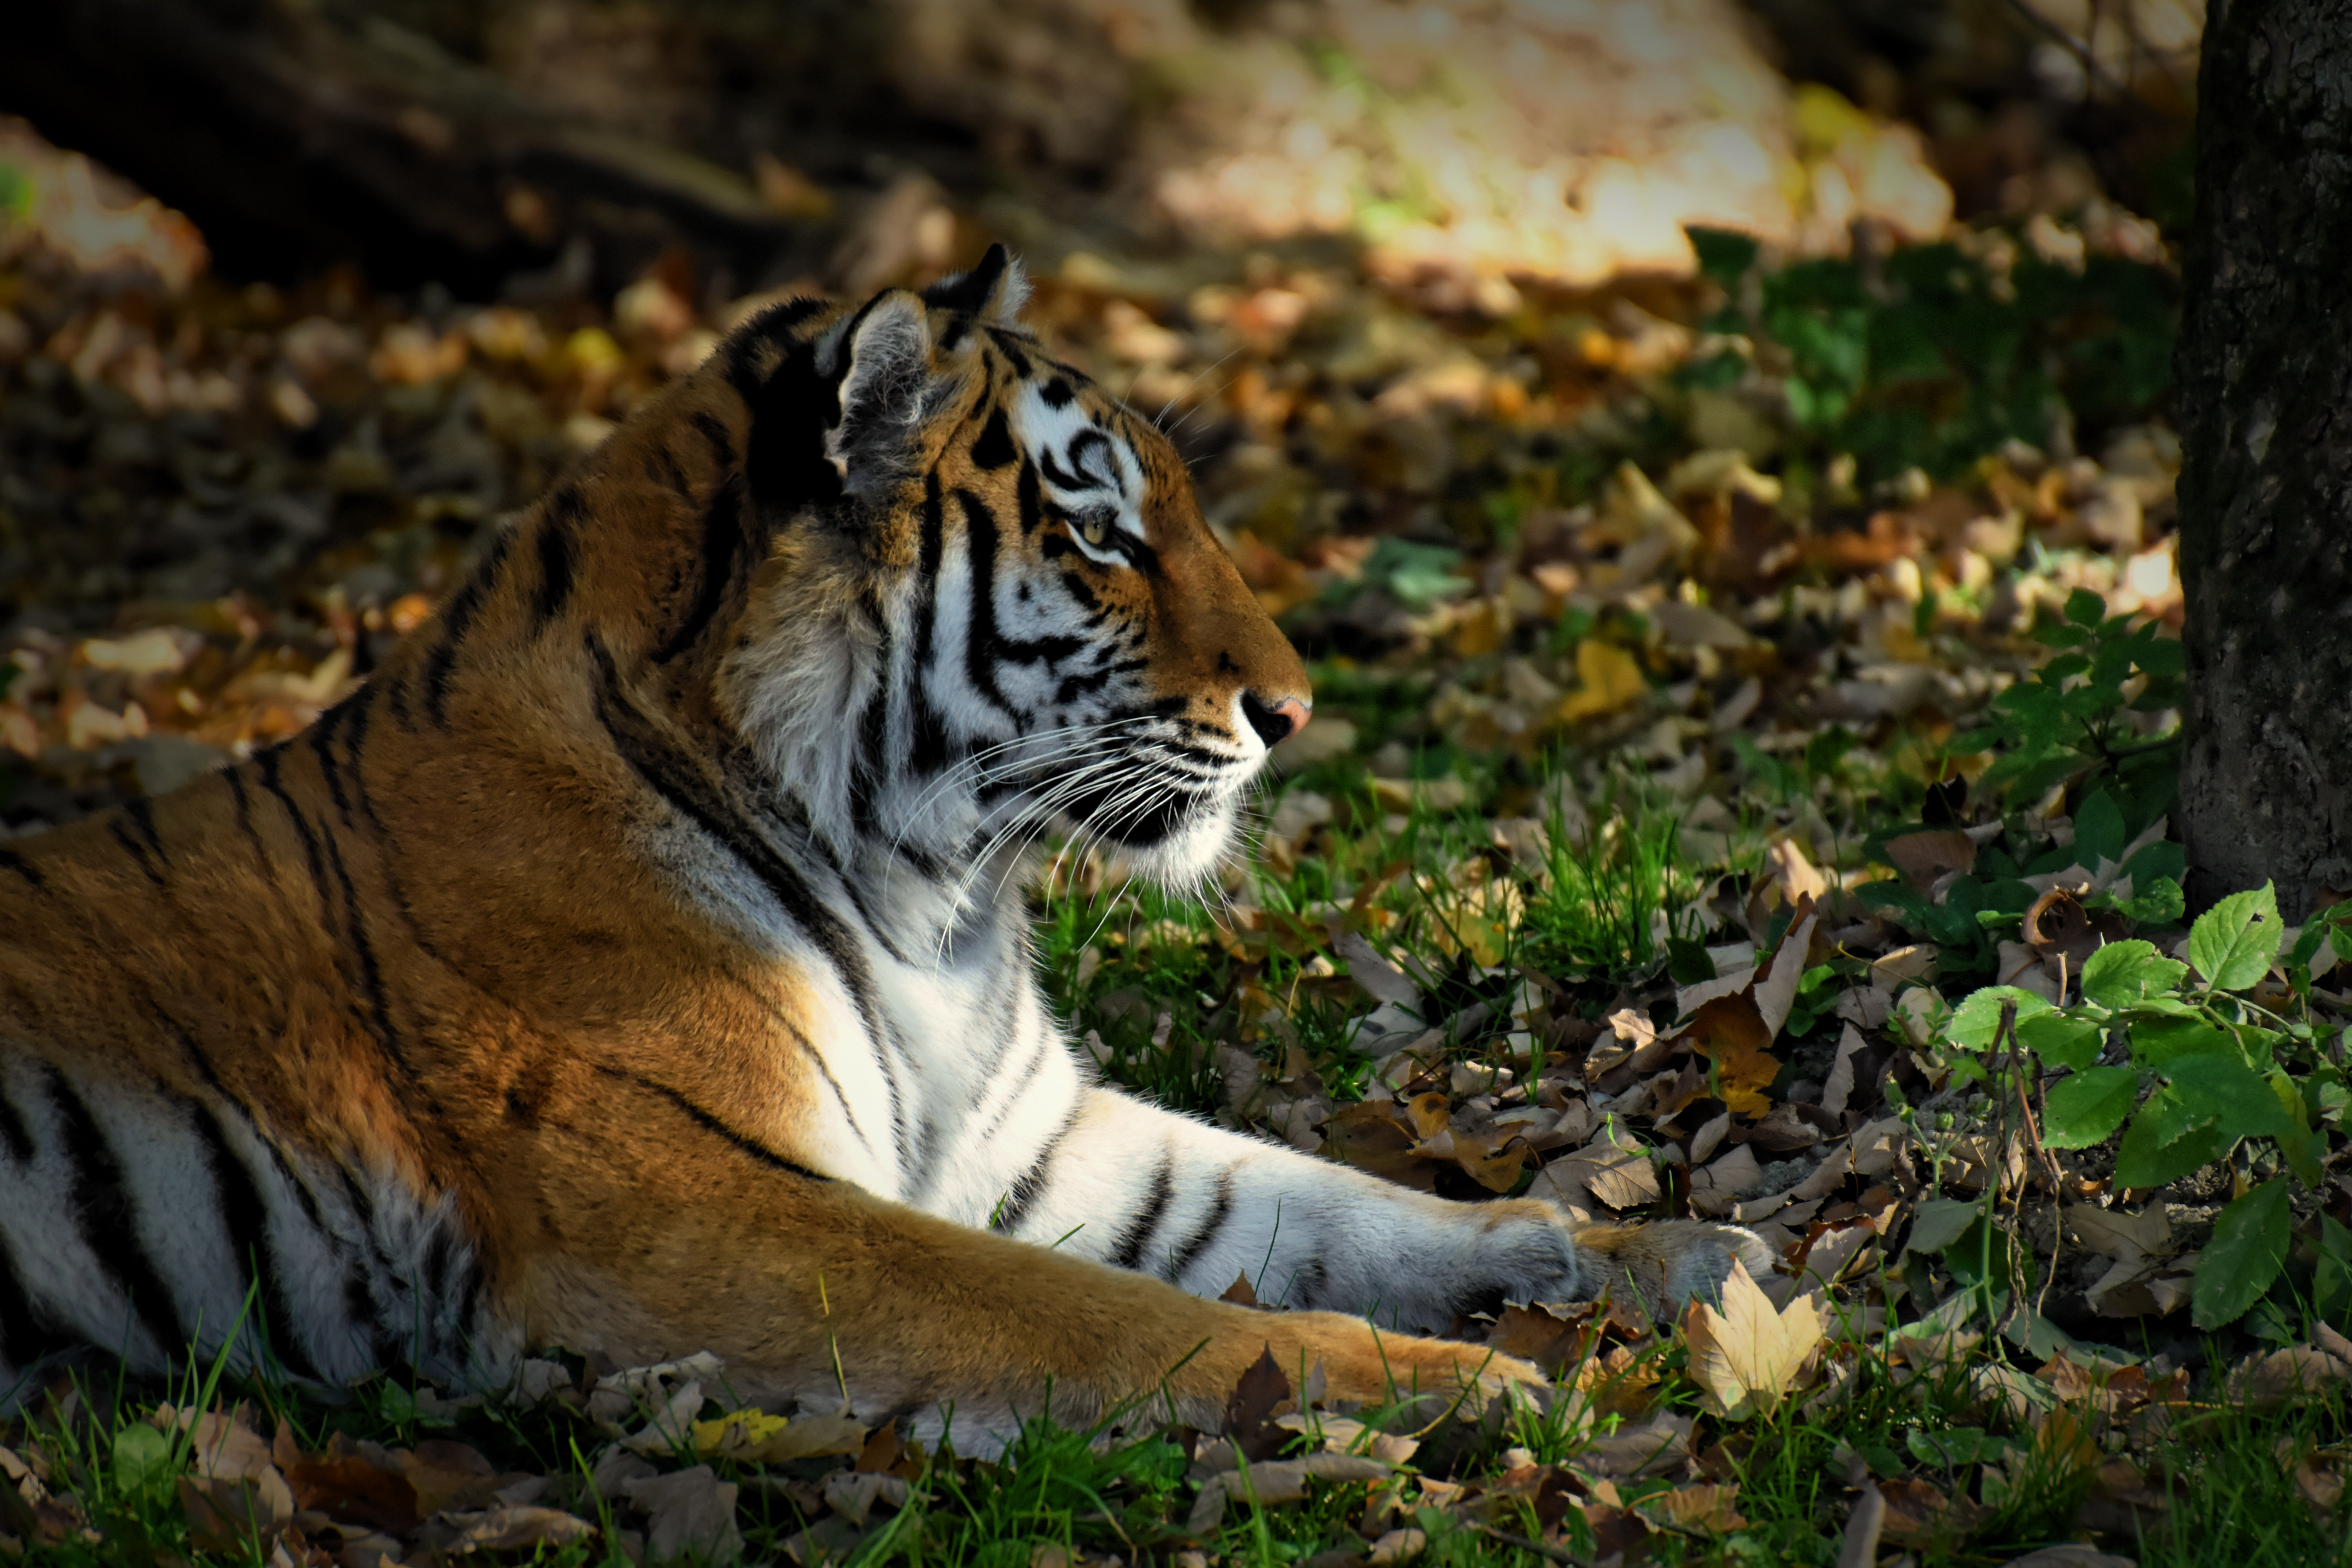tiger: (170, 229, 1488, 1372)
